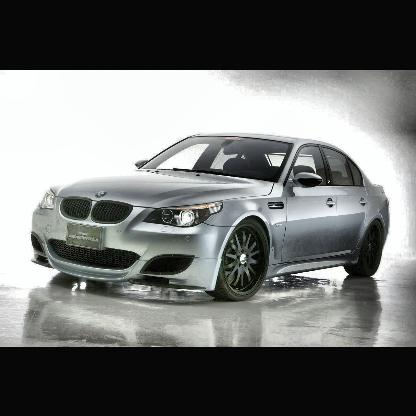BMW M5 Sedan 2010: (32, 132, 390, 303)
